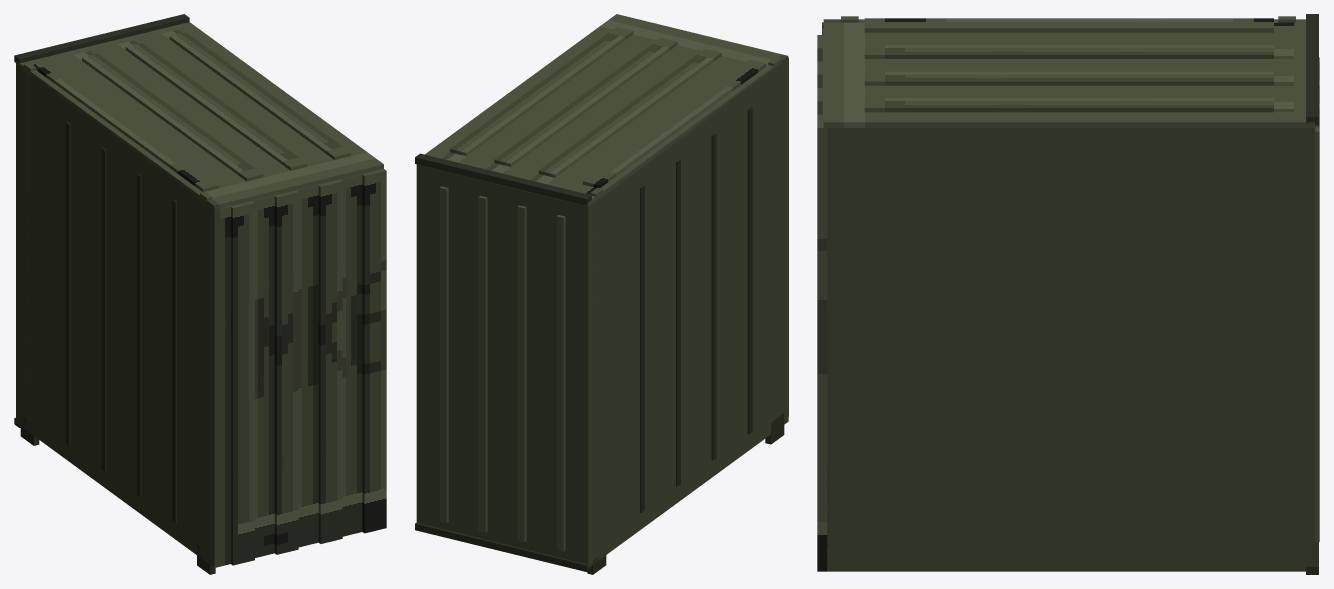
Rendered from CMU3DSectionAU14ContainerMK6Left.glb.
The picture shows the model from 3 angles, left to right: view 1: azimuth 30°, elevation 25°; view 2: azimuth 150°, elevation 25°; view 3: azimuth 270°, elevation 25°; orthographic projection. The views are drawn at different scales.
Visible parts, largest first — view 1: closed cargo shell, source-painted roof, outer end wall, painted corrugation 8, painted corrugation 6, painted corrugation 4, painted corrugation 2, painted corrugation 7, painted corrugation 5, painted corrugation 3, outer end rib (×4), painted corrugation 1 (+6 smaller); view 2: closed cargo shell, outer end wall, source-painted roof, rear corrugation (×4), outer end rib (×4), rear horizontal frame (×2), source-painted roof ridge 2, source-painted roof ridge 3, source-painted roof ridge 1, source-painted roof ridge 4; view 3: closed cargo shell, source-painted roof, source-painted roof ridge 1, source-painted roof ridge 3, source-painted roof ridge 4, source-painted roof ridge 2, painted corrugation 8, rear corrugation, rear horizontal frame.
Part boxes in pixels (box(x1,y1,x2,y2)): closed cargo shell: box(16, 66, 212, 565); source-painted roof: box(16, 22, 383, 209); outer end wall: box(16, 64, 220, 563); painted corrugation 8: box(362, 169, 386, 533); painted corrugation 6: box(318, 179, 342, 543); painted corrugation 4: box(274, 190, 298, 554); painted corrugation 2: box(231, 201, 254, 565); painted corrugation 7: box(340, 174, 362, 536); painted corrugation 5: box(296, 185, 318, 547); painted corrugation 3: box(253, 195, 274, 557); outer end rib (×4): box(66, 121, 176, 523); painted corrugation 1: box(212, 206, 230, 567); closed cargo shell: box(416, 78, 786, 567); outer end wall: box(582, 57, 788, 563); source-painted roof: box(416, 14, 788, 206); rear corrugation (×4): box(439, 186, 565, 551); outer end rib (×4): box(640, 106, 752, 512); rear horizontal frame (×2): box(415, 153, 591, 571); source-painted roof ridge 2: box(538, 48, 721, 177); source-painted roof ridge 3: box(494, 38, 677, 166); source-painted roof ridge 1: box(583, 59, 766, 187); source-painted roof ridge 4: box(450, 27, 633, 156); closed cargo shell: box(827, 128, 1314, 571); source-painted roof: box(823, 19, 1314, 127); source-painted roof ridge 1: box(864, 18, 1273, 32); source-painted roof ridge 3: box(864, 71, 1273, 85); source-painted roof ridge 4: box(864, 98, 1273, 112); source-painted roof ridge 2: box(864, 45, 1273, 58); painted corrugation 8: box(817, 114, 827, 571); rear corrugation: box(1315, 127, 1319, 541); rear horizontal frame: box(1306, 14, 1318, 124).
Size of the model in its own units: 0.9768 by 2.05 by 2.
Materials: 14 (11 with a texture image).
